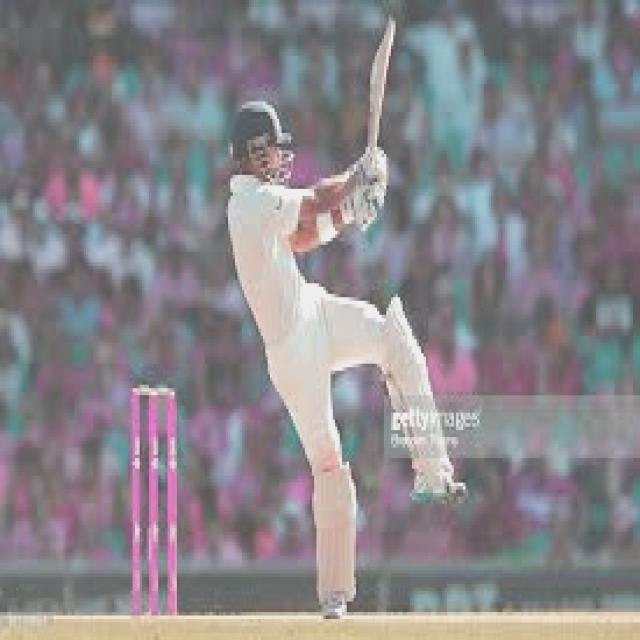toe: (377, 4, 402, 61)
